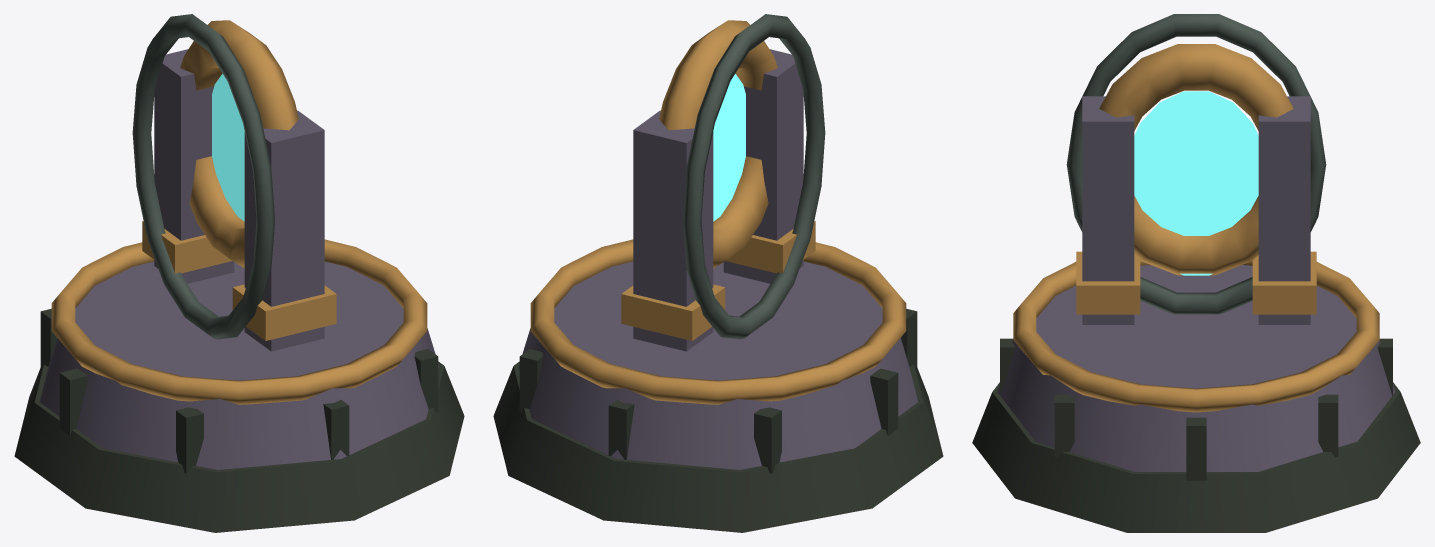
The model's file is tower_portal_portalTime.glb.
3 views of the same model, side by side, from view 1: azimuth 30°, elevation 25°; view 2: azimuth 150°, elevation 25°; view 3: azimuth 270°, elevation 25° (orthographic). The views are drawn at different scales.
Parts seen in each view (by area): view 1: stone_1, foot_0, rim_2, time_gate_17, arch_pillar_11, arch_pillar_13, arch_15, portal_surface_16, band_12, band_14, mortar_6, mortar_7 (+3 smaller); view 2: stone_1, foot_0, rim_2, time_gate_17, arch_pillar_13, arch_pillar_11, arch_15, portal_surface_16, band_14, band_12, mortar_8, mortar_7 (+3 smaller); view 3: stone_1, foot_0, portal_surface_16, arch_15, rim_2, time_gate_17, arch_pillar_11, arch_pillar_13, band_12, band_14, mortar_3, mortar_4 (+3 smaller).
Boxes of the visible parts, x1,y1,x2,y2 form: stone_1: (40, 261, 439, 469); foot_0: (14, 361, 464, 532); rim_2: (51, 239, 427, 404); time_gate_17: (132, 14, 274, 339); arch_pillar_11: (244, 110, 324, 351); arch_pillar_13: (154, 49, 234, 283); arch_15: (180, 20, 298, 268); portal_surface_16: (212, 74, 244, 221); band_12: (232, 284, 336, 340); band_14: (142, 221, 232, 273); mortar_6: (176, 407, 203, 473); mortar_7: (59, 368, 87, 435); stone_1: (518, 261, 917, 469); foot_0: (493, 361, 943, 532); rim_2: (530, 239, 906, 404); time_gate_17: (683, 14, 825, 339); arch_pillar_13: (633, 110, 713, 351); arch_pillar_11: (723, 49, 803, 283); arch_15: (659, 20, 777, 268); portal_surface_16: (713, 74, 745, 221); band_14: (621, 284, 725, 340); band_12: (725, 221, 815, 273); mortar_8: (754, 407, 781, 473); mortar_7: (870, 368, 898, 435); stone_1: (997, 265, 1395, 471); foot_0: (972, 382, 1420, 532); portal_surface_16: (1134, 91, 1258, 275); arch_15: (1099, 44, 1293, 275); rim_2: (1013, 260, 1379, 412); time_gate_17: (1066, 14, 1326, 314); arch_pillar_11: (1082, 96, 1134, 324); arch_pillar_13: (1258, 96, 1310, 324); band_12: (1076, 251, 1140, 314); band_14: (1252, 251, 1316, 314); mortar_3: (1186, 417, 1206, 480); mortar_4: (1054, 394, 1074, 457).
Size of the model in its own units: 0.5326 by 0.5674 by 0.56.
